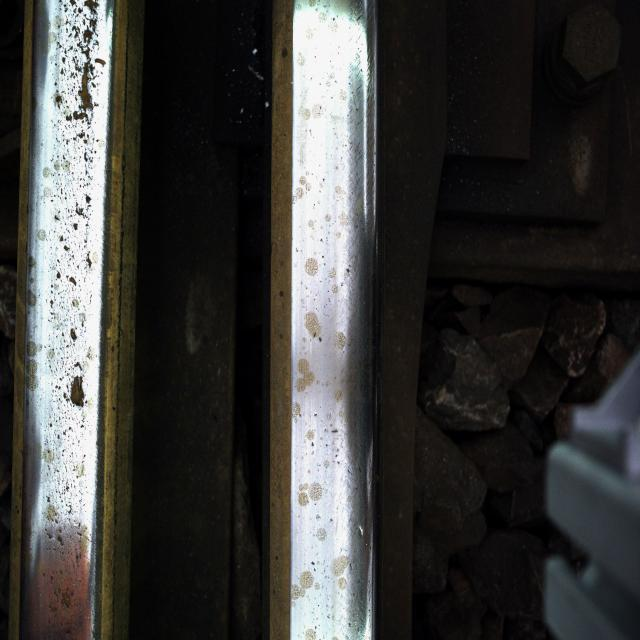scar: (47, 181, 95, 434), (46, 0, 110, 152)
